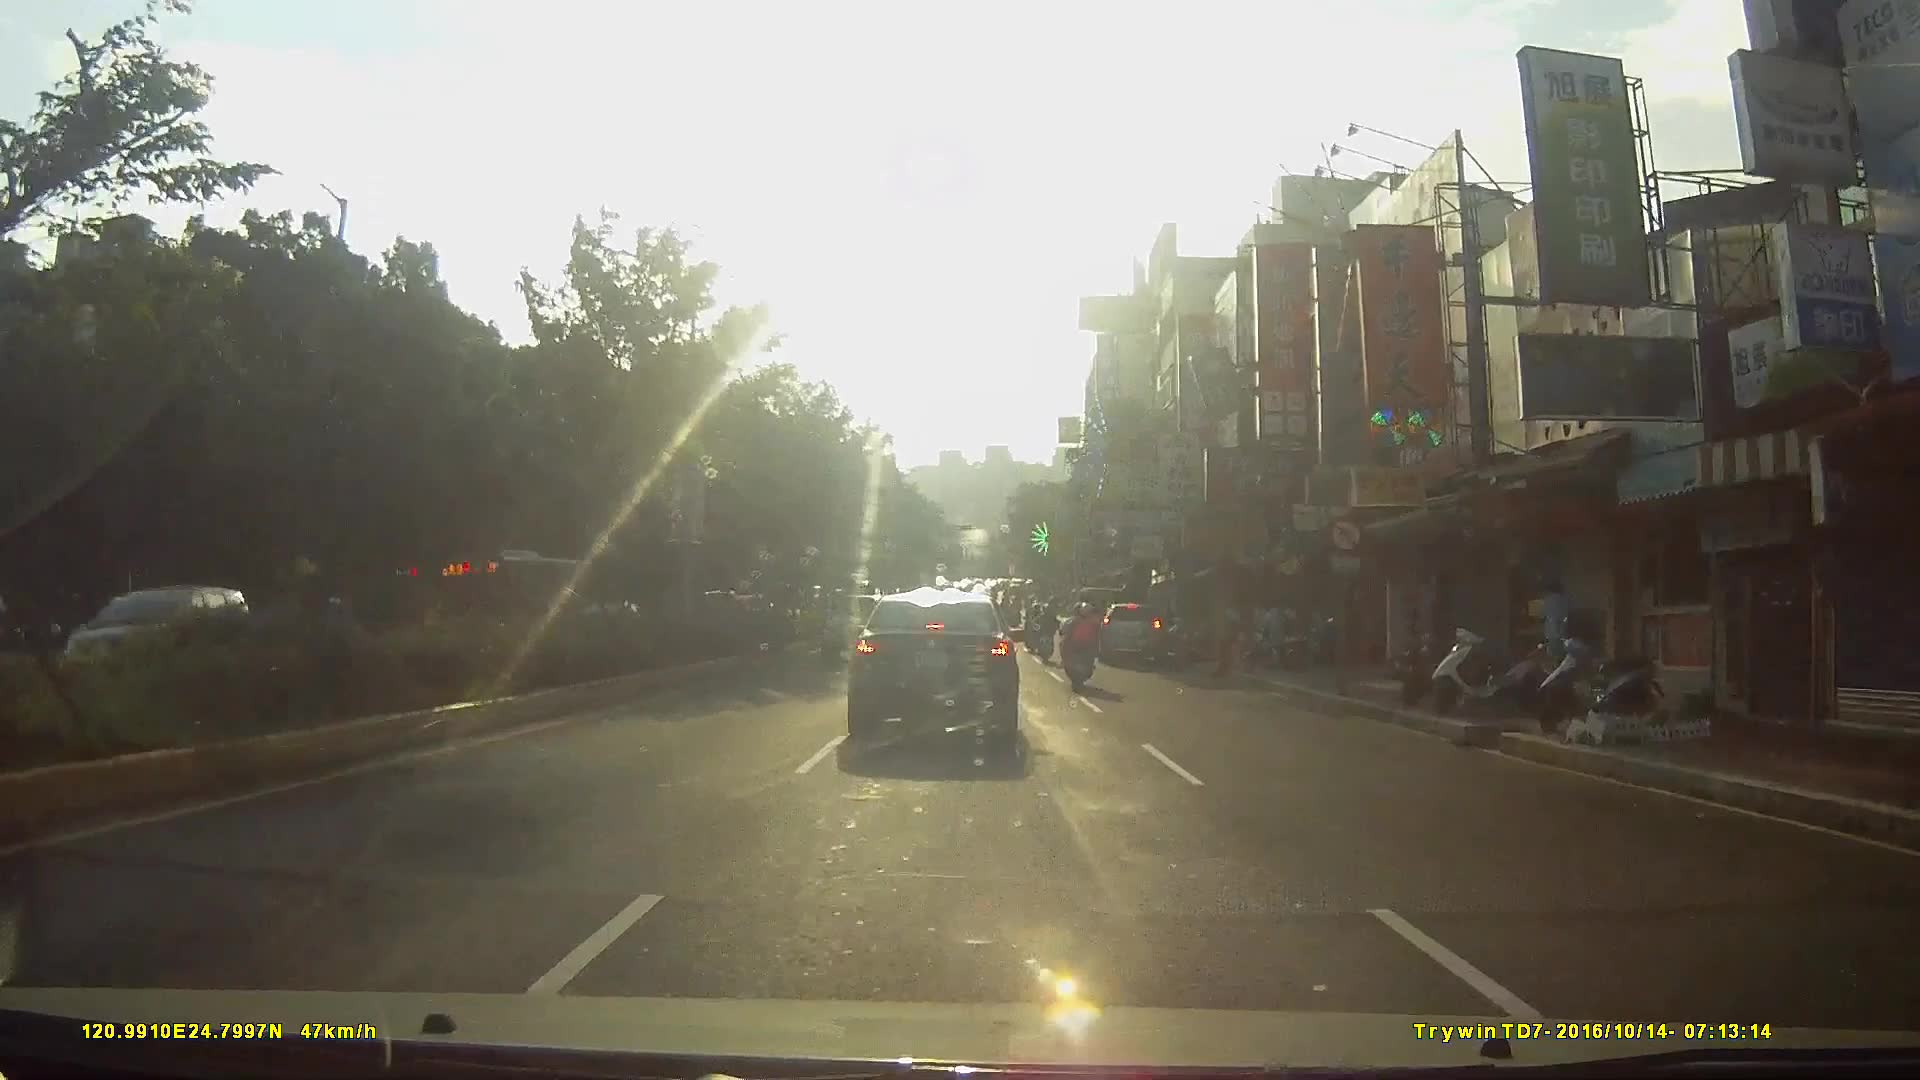pedestrian: (1528, 578, 1570, 689)
rider: (1059, 611, 1103, 707), (1029, 598, 1059, 666)
vehicle: (842, 590, 1033, 757), (1093, 599, 1172, 673)
